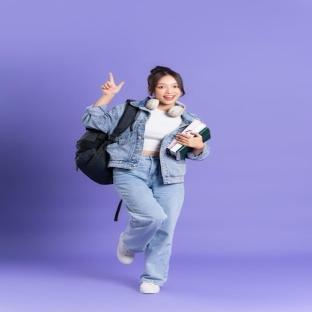Human: (107, 67, 209, 293), (82, 74, 127, 135)
